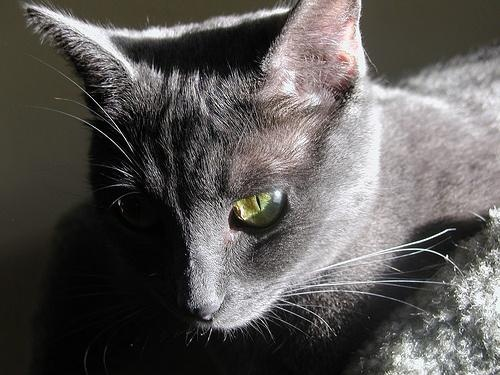cat: (23, 7, 500, 367)
